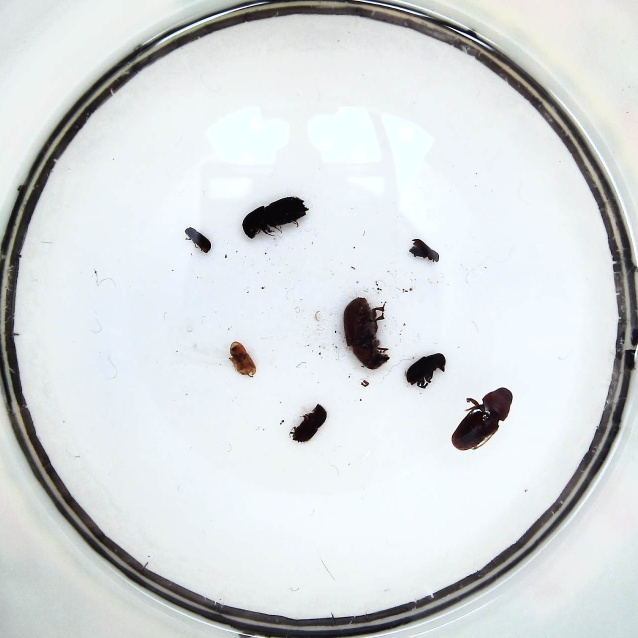acuminatus: (409, 239, 439, 262), (184, 227, 211, 252)
armandi: (406, 353, 445, 385)
boerner: (242, 196, 310, 239)
coleoptera: (227, 340, 255, 375)
leconte: (452, 387, 513, 451), (344, 297, 389, 369)
linnaeus: (291, 404, 327, 442)
